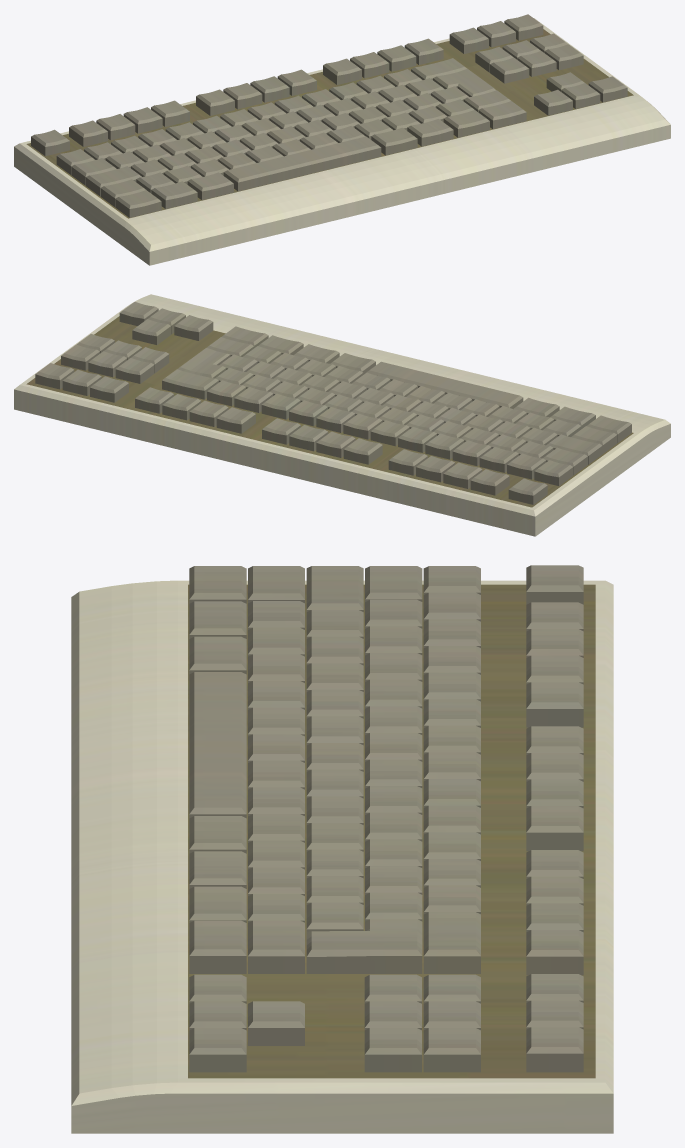
The model's file is Keyboard.glb.
3 renders of one model, top to bottom at view 1: azimuth 30°, elevation 25°; view 2: azimuth 150°, elevation 25°; view 3: azimuth 270°, elevation 25°, orthographic. The views are drawn at different scales.
Parts seen in each view (by area): view 1: Keys, Board, Key Space, Key Enter, Key Tab, KeyD, Key I, Key Plus; view 2: Keys, Board, Key Space, Key Enter, Key Plus, Key Tab, KeyD, Key I; view 3: Keys, Board, Key Space, Key Enter, Key Tab, Key Plus, KeyD, Key I.
Part boxes in pixels (box(x1,y1,x2,y2)): Keys: box(31, 14, 627, 217); Board: box(14, 18, 670, 265); Key Space: box(223, 136, 381, 191); Key Enter: box(433, 69, 495, 96); Key Tab: box(71, 158, 116, 185); KeyD: box(185, 146, 223, 163); Key I: box(296, 104, 335, 122); Key Plus: box(384, 69, 422, 86); Keys: box(35, 302, 631, 504); Board: box(14, 294, 670, 536); Key Space: box(366, 361, 523, 408); Key Enter: box(177, 348, 230, 378); Key Plus: box(207, 380, 246, 406); Key Tab: box(543, 447, 587, 475); KeyD: box(465, 414, 503, 431); Key I: box(325, 394, 362, 411); Keys: box(189, 565, 583, 1072); Board: box(71, 580, 613, 1133); Key Space: box(189, 672, 246, 818); Key Enter: box(306, 919, 422, 973); Key Tab: box(365, 566, 422, 601); Key Plus: box(423, 885, 480, 914); KeyD: box(306, 663, 363, 691); Key I: box(365, 786, 422, 814).
Size of the model in its own units: 8.22 by 0.5344 by 3.7.
1 material, 1 textured.
